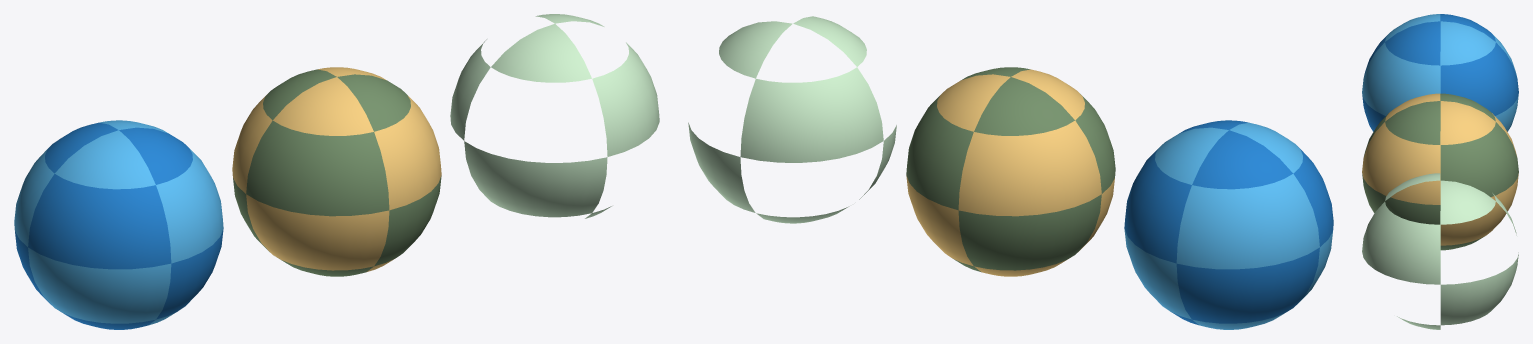
File: materials.glb
3 views of the same model, side by side, from view 1: azimuth 30°, elevation 25°; view 2: azimuth 150°, elevation 25°; view 3: azimuth 270°, elevation 25° (orthographic). The views are drawn at different scales.
Size of the model in its own units: 6.8 by 2 by 2.
3 materials, 3 textured.
